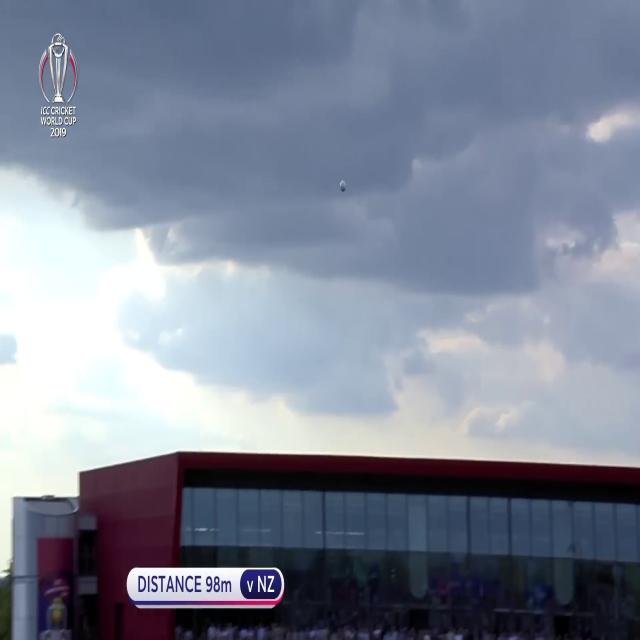ball: (337, 177, 349, 196)
